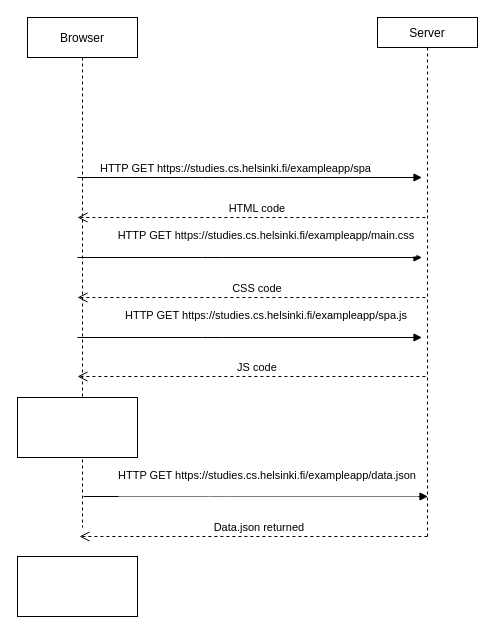
Image size: 495x634. Some labels were removed from this diagram. Here are the shapes that lost their labels. From the top down, the box of each, then its label:
(16, 396, 138, 458): execute JS code and call for data.json
(16, 556, 138, 616): browser executes event handler and displays notes
